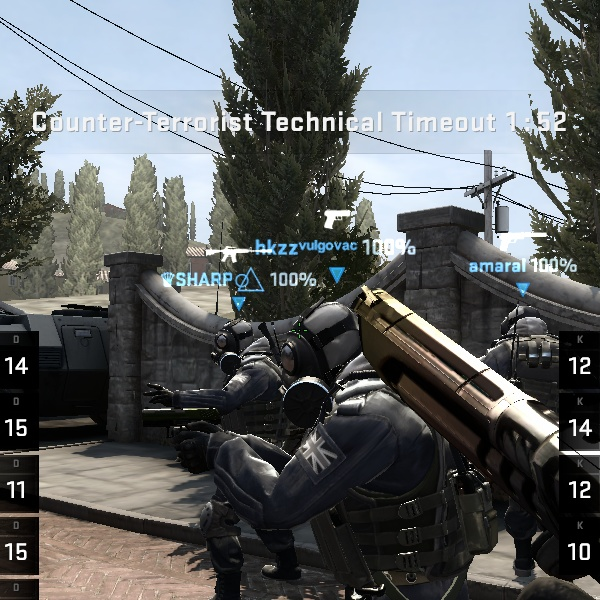ct_head: (202, 317, 257, 370)
